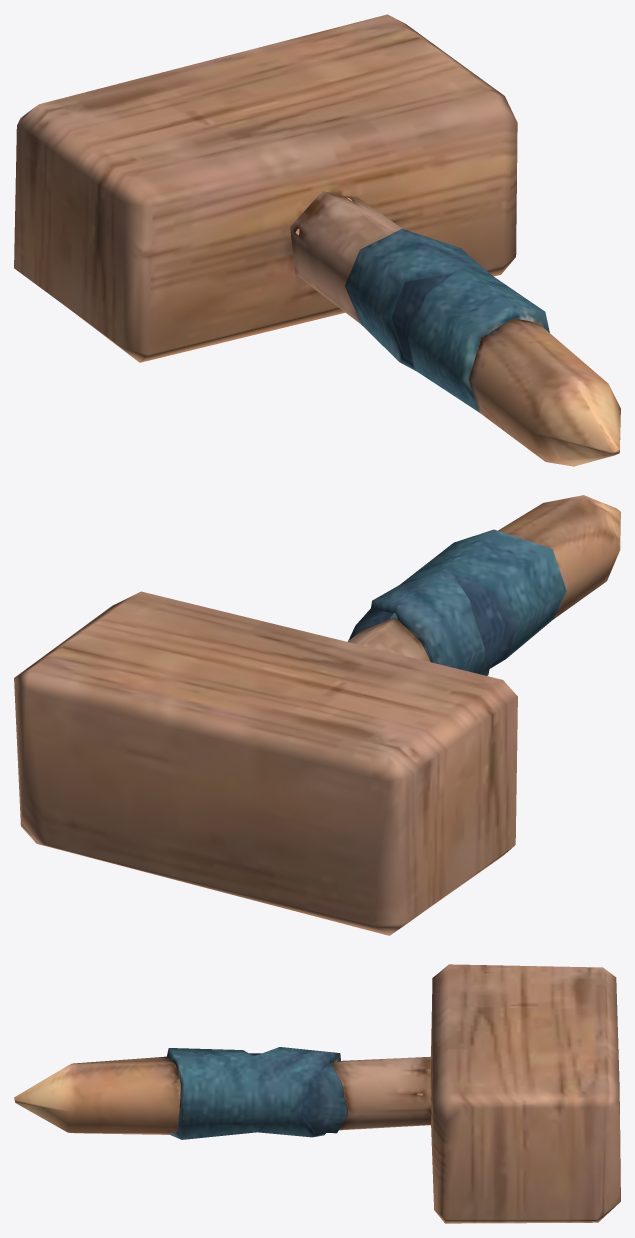
3 views of the same model, one above another, from view 1: azimuth 30°, elevation 25°; view 2: azimuth 150°, elevation 25°; view 3: azimuth 270°, elevation 25° (orthographic). The views are drawn at different scales.
Visible parts, largest first — view 1: SM_Crafting_Table_Hammer_01_LOD0; view 2: SM_Crafting_Table_Hammer_01_LOD0; view 3: SM_Crafting_Table_Hammer_01_LOD0.
Boxes of the visible parts, box(x1,y1,x2,y2) form: SM_Crafting_Table_Hammer_01_LOD0: box(14, 14, 620, 466); SM_Crafting_Table_Hammer_01_LOD0: box(14, 495, 620, 935); SM_Crafting_Table_Hammer_01_LOD0: box(14, 964, 620, 1223).
Bounding box in the file's own units: 0.2174 × 0.0945 × 0.3973.
1 material, 1 textured.
